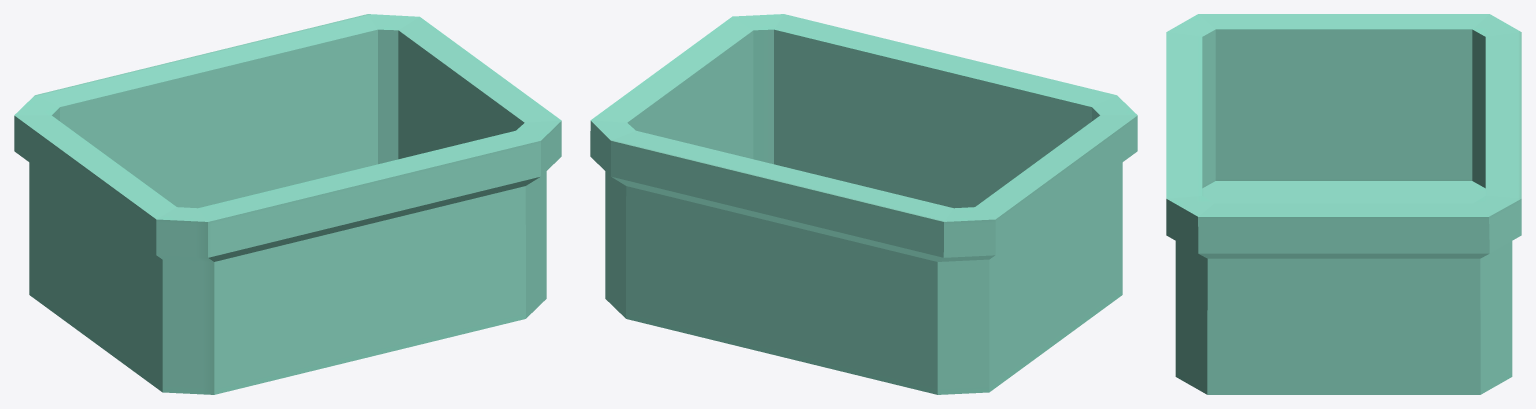
Rendered from Container.fbx.
3 views of the same model, side by side, from view 1: azimuth 30°, elevation 25°; view 2: azimuth 150°, elevation 25°; view 3: azimuth 270°, elevation 25° (orthographic). The views are drawn at different scales.
Visible parts, largest first — view 1: Cube.004; view 2: Cube.004; view 3: Cube.004.
Part boxes in pixels (x1,y1,x2,y2): Cube.004: [14, 14, 561, 394]; Cube.004: [590, 14, 1137, 394]; Cube.004: [1166, 14, 1521, 394].
Size of the model in its own units: 8558 by 3610 by 6332.
